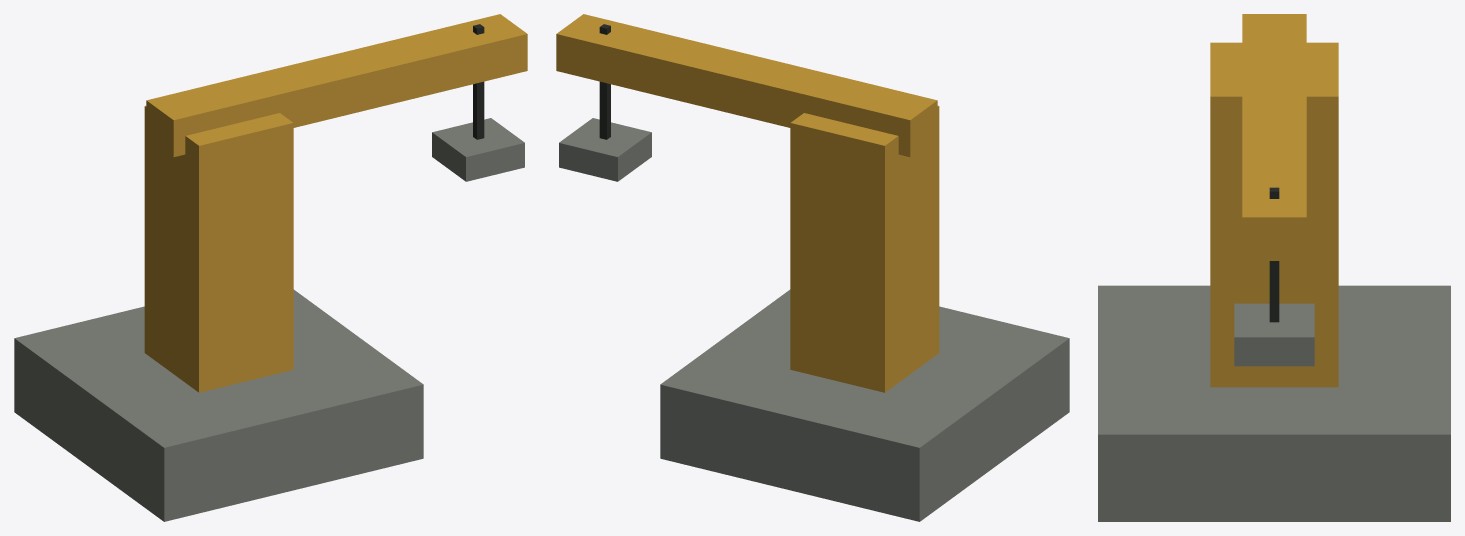
File: crane.gltf
3 renders of one model, left to right at view 1: azimuth 30°, elevation 25°; view 2: azimuth 150°, elevation 25°; view 3: azimuth 270°, elevation 25°, orthographic. The views are drawn at different scales.
Parts seen in each view (by area): view 1: base, tower, boom, grip, cable; view 2: base, tower, boom, grip, cable; view 3: base, tower, boom, grip, cable.
Part boxes in pixels (left/top/right/bottom): base: left=14, top=289, right=423, bottom=521; tower: left=144, top=105, right=293, bottom=392; boom: left=146, top=14, right=527, bottom=157; grip: left=432, top=118, right=524, bottom=181; cable: left=473, top=24, right=484, bottom=139; base: left=660, top=289, right=1069, bottom=521; tower: left=790, top=105, right=939, bottom=392; boom: left=556, top=14, right=937, bottom=157; grip: left=559, top=118, right=651, bottom=181; cable: left=599, top=24, right=610, bottom=139; base: left=1098, top=285, right=1450, bottom=521; tower: left=1210, top=42, right=1338, bottom=387; boom: left=1242, top=14, right=1306, bottom=260; grip: left=1234, top=303, right=1314, bottom=366; cable: left=1269, top=187, right=1279, bottom=322.
Bounding box in the file's own units: 3.6 × 2.8 × 2.2.
